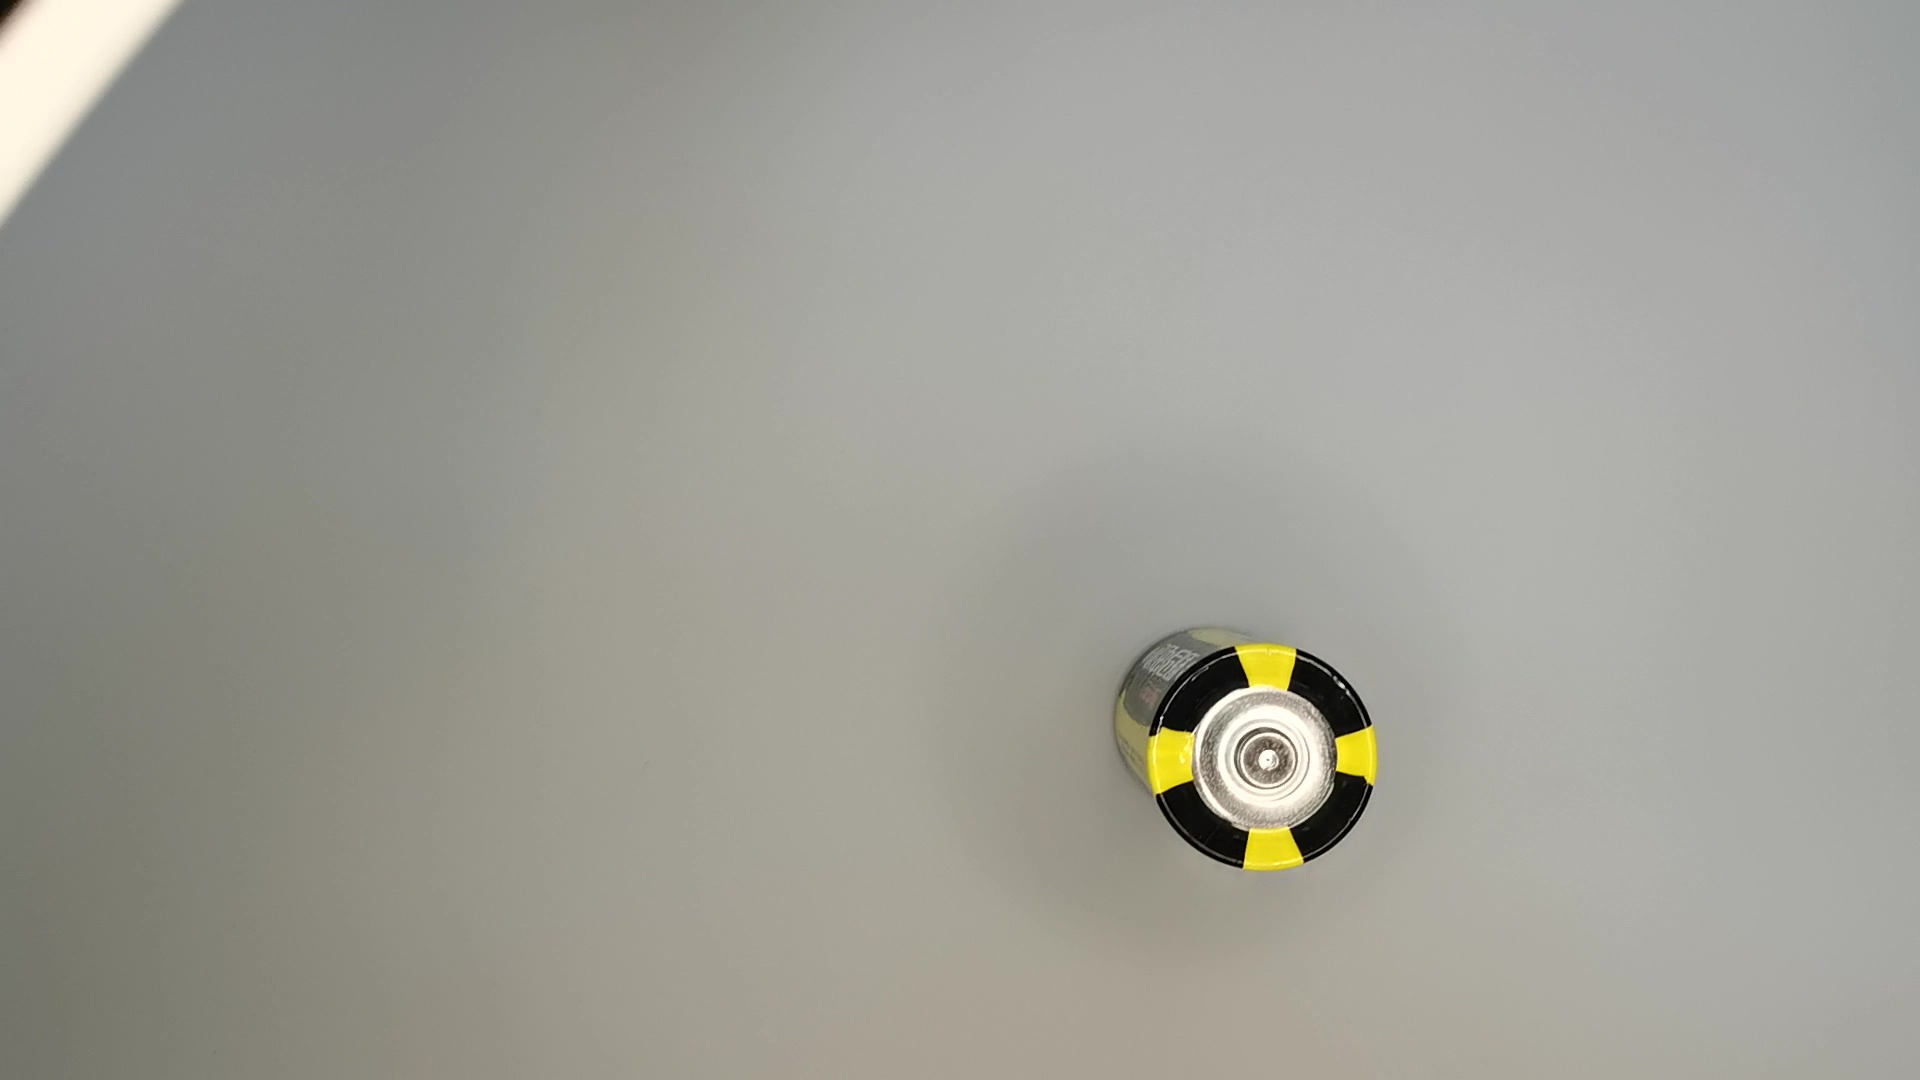battery: (1106, 620, 1381, 880)
